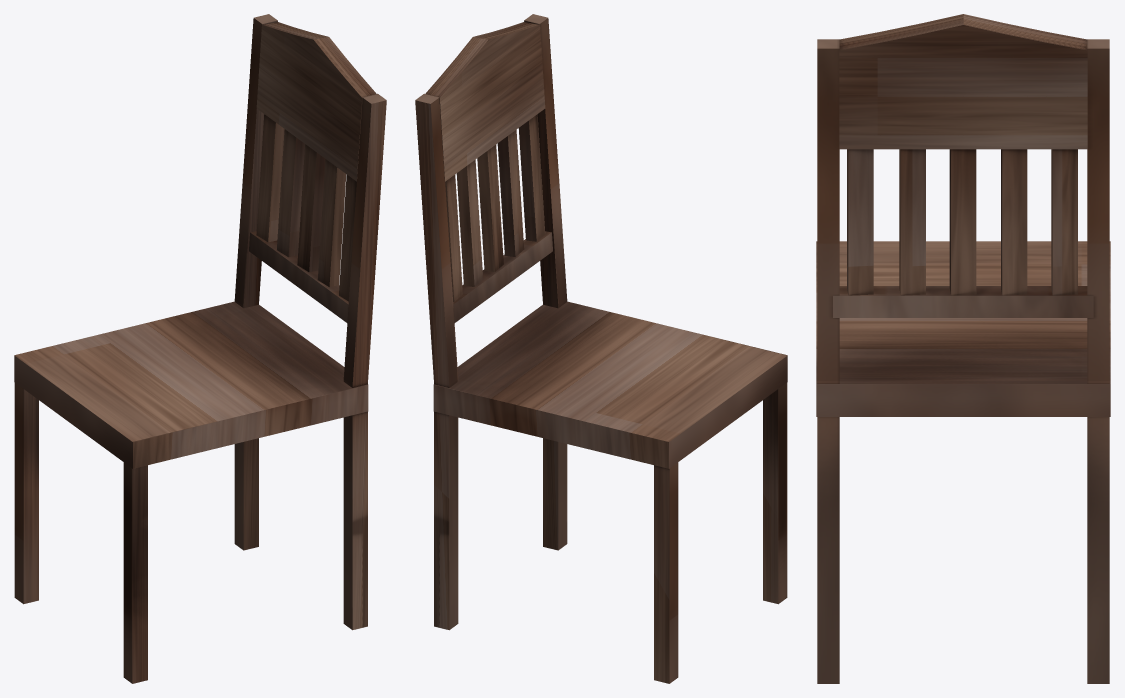
Rendered from chair(textured).fbx.
The picture shows the model from 3 angles, left to right: view 1: azimuth 30°, elevation 25°; view 2: azimuth 150°, elevation 25°; view 3: azimuth 270°, elevation 25°; orthographic projection. The views are drawn at different scales.
Parts seen in each view (by area): view 1: chair; view 2: chair; view 3: chair.
Boxes of the visible parts, x1,y1,x2,y2 form: chair: [14, 14, 386, 683]; chair: [415, 14, 787, 683]; chair: [816, 14, 1110, 683].
Bounding box in the file's own units: 249 × 504 × 200.
Materials: 1 (1 with a texture image).
